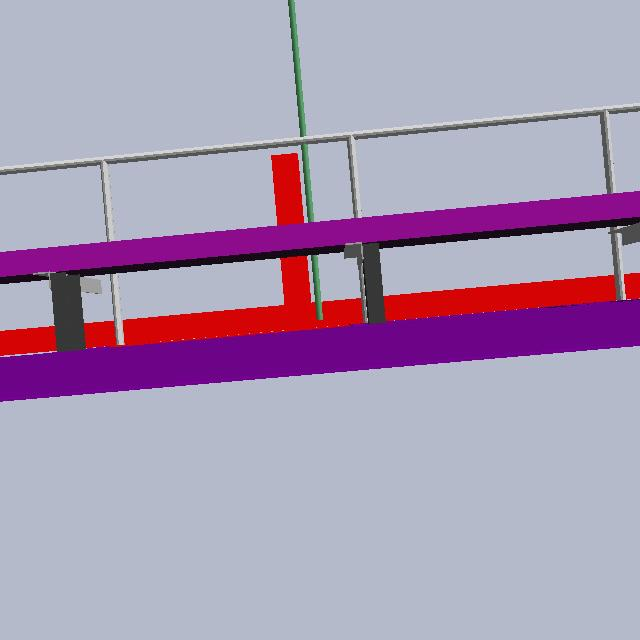Poste: (283, 1, 326, 321)
Soporte: (266, 150, 314, 328)
